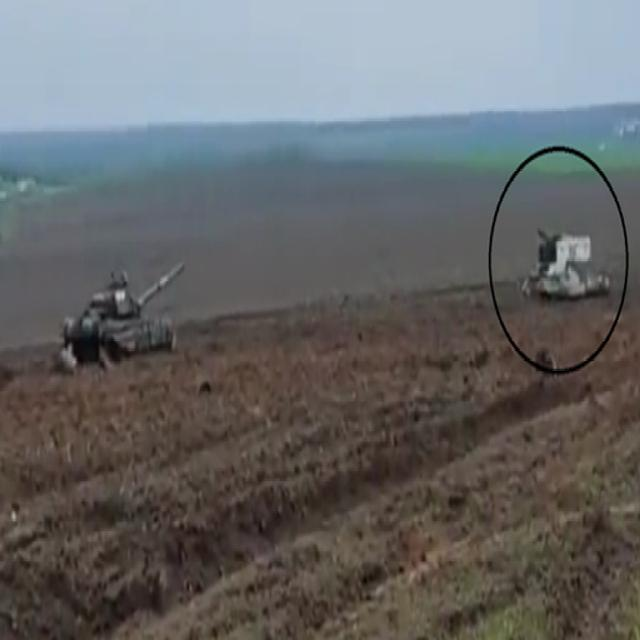MLRS: (522, 220, 618, 313)
TANK: (55, 249, 185, 362)
